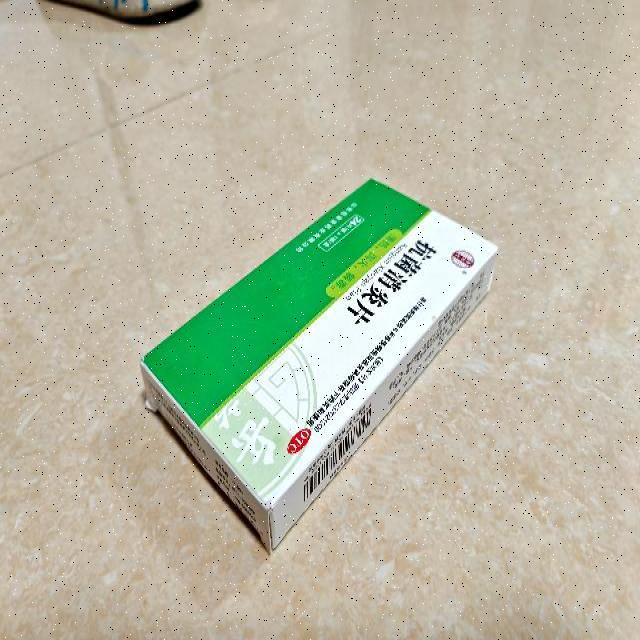box: (138, 177, 500, 554)
